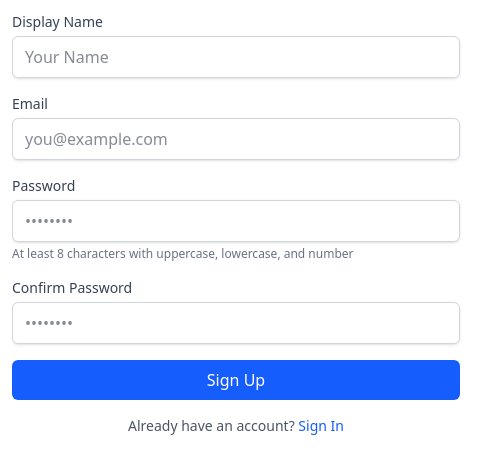
it: RegisterForm › disables submit button while submitting
In the field labelled "Display Name": (236, 57) [12, 36, 460, 78], type "Test User"
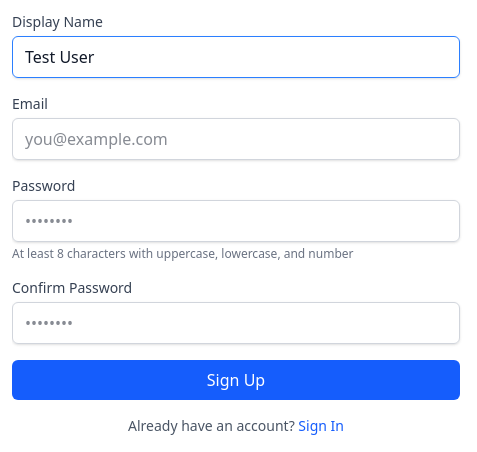
In the field labelled "Email": (236, 139) [12, 118, 460, 160], type "user@example.com"
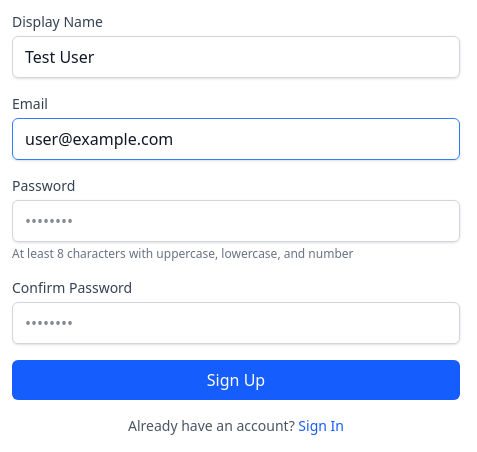
In the password field labelled "Password": (236, 221) [12, 200, 460, 242], type "ValidPassword123"
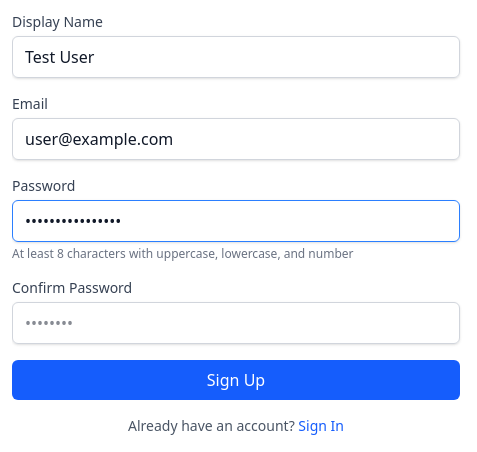
In the password field labelled "Confirm Password": (236, 323) [12, 302, 460, 344], type "ValidPassword123"
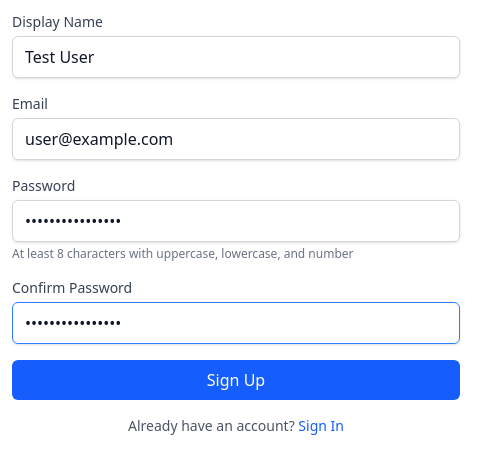
Click the button "Sign Up": (236, 380) [12, 360, 460, 400]
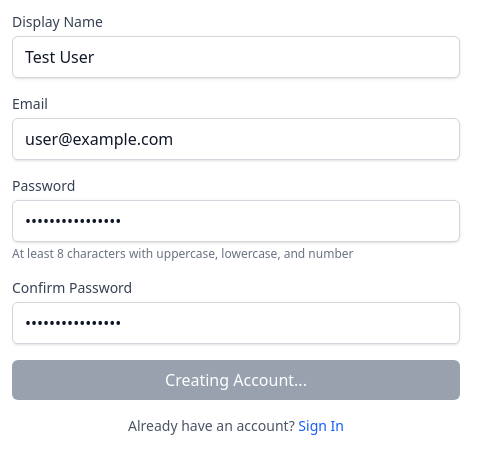
Expected: the button named "Sign Up" is disabled, [12, 360, 460, 400]
Expected: the button named "Sign Up" shows "Creating Account", [12, 360, 460, 400]
